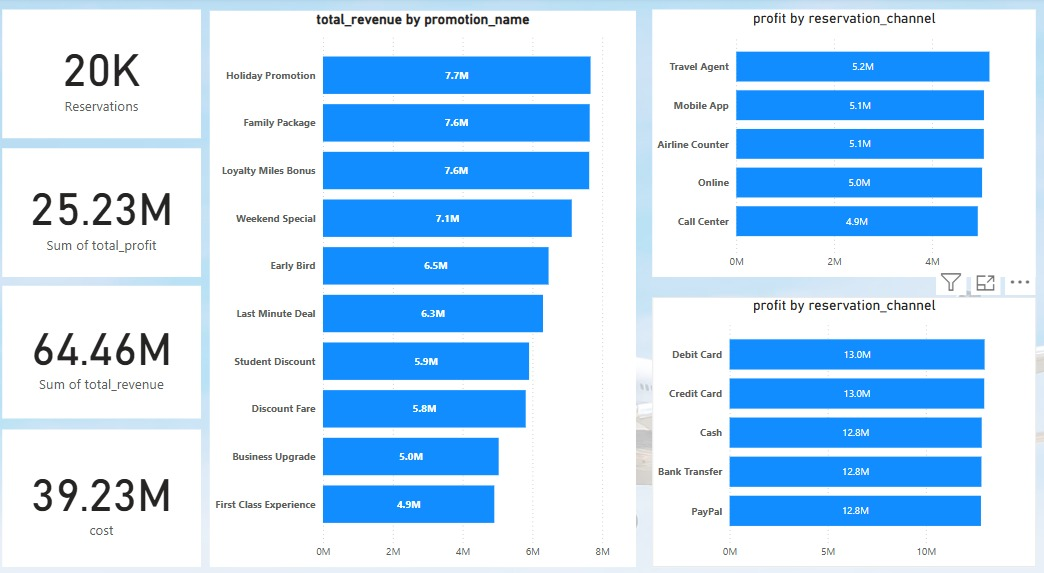

The dashboard page shown, as its layout file describes it:
{"tool":"powerbi","page":{"name":"Page 3","canvas":[1280,720],"ordinal":2},"visuals":[{"type":"card","fields":{"Values":["Sum(revenue_by_channel_view.total_profit)"]},"box":[13.5,181.4,238.4,154.4],"z":1},{"type":"card","fields":{"Values":["Sum(revenue_by_channel_view.total_revenue)"]},"box":[13.5,346.3,238.4,158.9],"z":2},{"type":"card","fields":{"Values":["measures (2).cost"]},"box":[13.5,518.7,238.4,164.9],"z":3},{"type":"barChart","title":"profit by reservation_channel","fields":{"Category":["revenue_by_channel_view.reservation_channel"],"Y":["Sum(revenue_by_channel_view.total_profit)"]},"box":[793.1,15,460.2,320.8],"z":4},{"type":"card","fields":{"Values":["Sum(revenue_by_channel_view.number_of_reservations)"]},"box":[13.5,15,238.4,154.4],"z":5},{"type":"barChart","title":"profit by reservation_channel","fields":{"Category":["revenue_by_paymentmethd_view.payment_method"],"Y":["Sum(revenue_by_paymentmethd_view.total_revenue)"]},"box":[793.1,359.8,460.2,323.8],"z":6},{"type":"clusteredBarChart","title":"total_revenue by promotion_name","fields":{"Category":["revenue_by_promotion_view.promotion_name"],"Y":["Sum(revenue_by_promotion_view.total_revenue)"]},"box":[262.4,16.5,511.2,667.1],"z":7}]}

Visuals, with their boxes in screenshot pixels (x1, y1, x2, y2), scaled from the page's 1280x720 canvas onto the 1044x573 screenshot:
card - Sum(revenue_by_channel_view.total_profit): Rect(11, 144, 205, 267)
card - Sum(revenue_by_channel_view.total_revenue): Rect(11, 276, 205, 402)
card - measures (2).cost: Rect(11, 413, 205, 544)
"profit by reservation_channel" barChart: Rect(647, 12, 1022, 267)
card - Sum(revenue_by_channel_view.number_of_reservations): Rect(11, 12, 205, 135)
"profit by reservation_channel" barChart: Rect(647, 286, 1022, 544)
"total_revenue by promotion_name" clusteredBarChart: Rect(214, 13, 631, 544)
